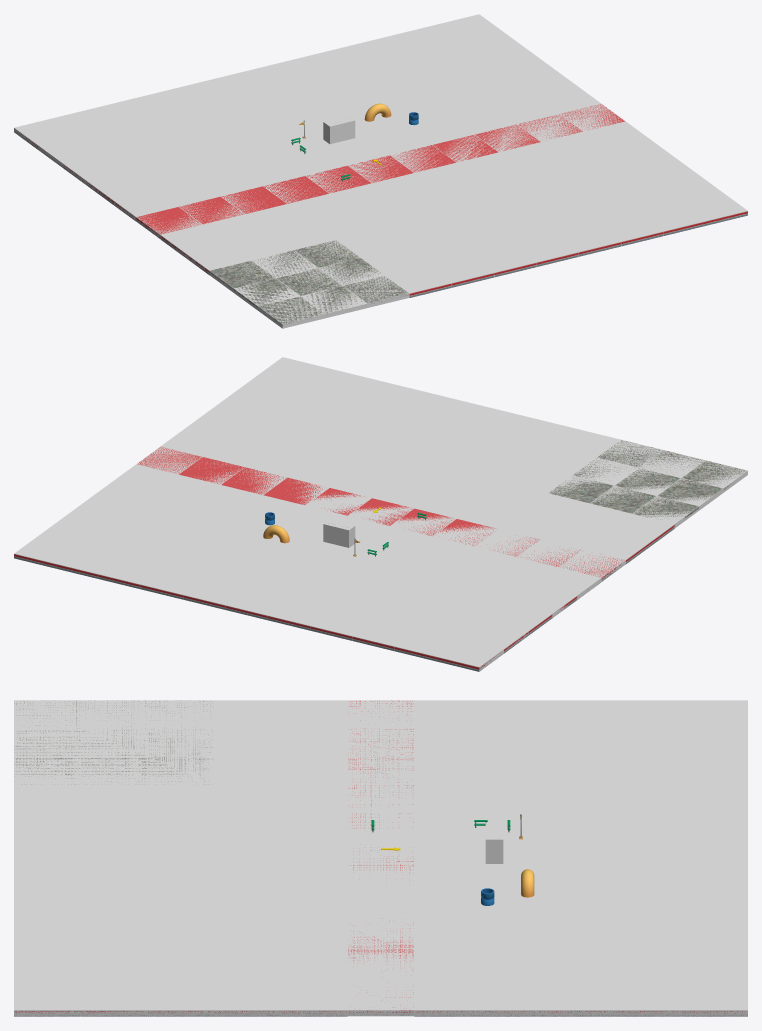
The model's file is stage13.glb.
3 views of the same model, one above another, from view 1: azimuth 30°, elevation 25°; view 2: azimuth 150°, elevation 25°; view 3: azimuth 270°, elevation 25° (orthographic). The views are drawn at different scales.
Visible parts, largest first — view 1: COL_Cube, platform_6x6x1_red.009, platform_6x6x1_red.072, platform_6x6x1_red.119, platform_6x6x1_red.116, platform_6x6x1_red.095, platform_6x6x1_red.006, platform_6x6x1_red.075, platform_6x6x1_red.007, platform_6x6x1_red.004, platform_6x6x1_red.003, platform_6x6x1_red.005 (+10 smaller); view 2: COL_Cube, platform_6x6x1_red.073, platform_6x6x1_red.008, platform_6x6x1_red.005, platform_6x6x1_red.010, platform_6x6x1_red.003, platform_6x6x1_red.075, platform_6x6x1_red.119, platform_6x6x1_red.097, platform_6x6x1_red.116, platform_6x6x1_red.072, platform_6x6x1_red.095 (+2 smaller); view 3: COL_Cube, TRIGGER_RedDoor.
Part boxes in pixels (bbox=[...]): COL_Cube: bbox=[14, 14, 747, 328]; platform_6x6x1_red.009: bbox=[136, 207, 200, 238]; platform_6x6x1_red.072: bbox=[209, 261, 275, 289]; platform_6x6x1_red.119: bbox=[344, 276, 409, 303]; platform_6x6x1_red.116: bbox=[259, 296, 322, 325]; platform_6x6x1_red.095: bbox=[277, 268, 341, 295]; platform_6x6x1_red.006: bbox=[222, 186, 286, 213]; platform_6x6x1_red.075: bbox=[294, 240, 359, 267]; platform_6x6x1_red.007: bbox=[179, 196, 243, 224]; platform_6x6x1_red.004: bbox=[264, 176, 328, 203]; platform_6x6x1_red.003: bbox=[433, 135, 497, 161]; platform_6x6x1_red.005: bbox=[475, 124, 540, 151]; COL_Cube: bbox=[14, 357, 747, 671]; platform_6x6x1_red.073: bbox=[591, 486, 655, 513]; platform_6x6x1_red.008: bbox=[179, 457, 244, 484]; platform_6x6x1_red.005: bbox=[221, 467, 285, 494]; platform_6x6x1_red.010: bbox=[137, 447, 201, 473]; platform_6x6x1_red.003: bbox=[263, 477, 322, 504]; platform_6x6x1_red.075: bbox=[549, 476, 613, 503]; platform_6x6x1_red.119: bbox=[597, 440, 661, 467]; platform_6x6x1_red.097: bbox=[657, 478, 722, 502]; platform_6x6x1_red.116: bbox=[682, 460, 746, 489]; platform_6x6x1_red.072: bbox=[633, 496, 698, 519]; platform_6x6x1_red.095: bbox=[615, 468, 680, 490]; COL_Cube: bbox=[14, 700, 747, 1016]; TRIGGER_RedDoor: bbox=[485, 822, 503, 863].
Size of the model in its own units: 110 by 5.08 by 110.
9 materials, 8 textured.
